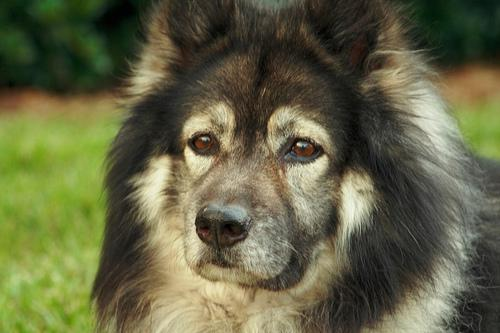dog-keeshond: (159, 0, 389, 293)
